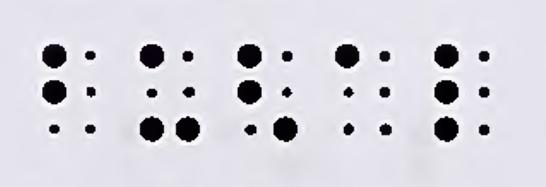letter_a: (336, 44, 393, 137)
letter_b: (42, 44, 96, 135)
letter_l: (435, 44, 489, 143)
letter_u: (140, 43, 200, 143)
one_cell_part_word_ng: (237, 44, 298, 142)
